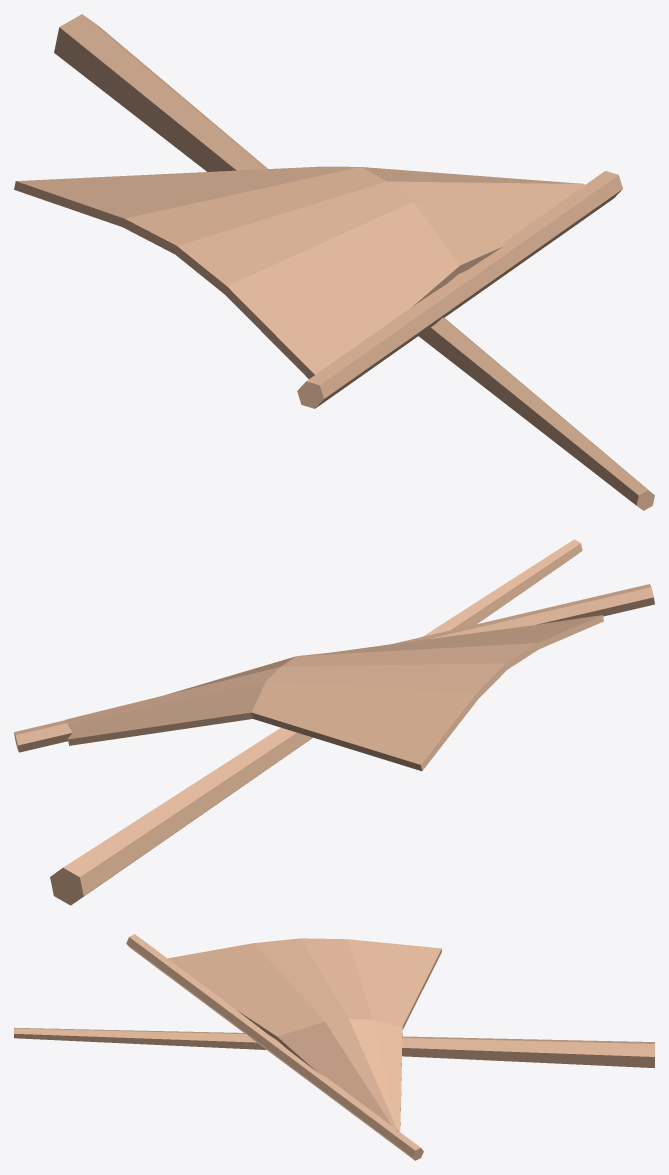
The model's file is ship-unfinishedMast.fbx.
3 renders of one model, top to bottom at view 1: azimuth 30°, elevation 25°; view 2: azimuth 150°, elevation 25°; view 3: azimuth 270°, elevation 25°, orthographic. The views are drawn at different scales.
Parts seen in each view (by area): view 1: Cylinder.006; view 2: Cylinder.006; view 3: Cylinder.006.
Boxes of the visible parts, x1,y1,x2,y2 form: Cylinder.006: (14, 14, 654, 510); Cylinder.006: (14, 539, 654, 905); Cylinder.006: (14, 934, 654, 1160).
Size of the model in its own units: 107 by 29.05 by 196.
